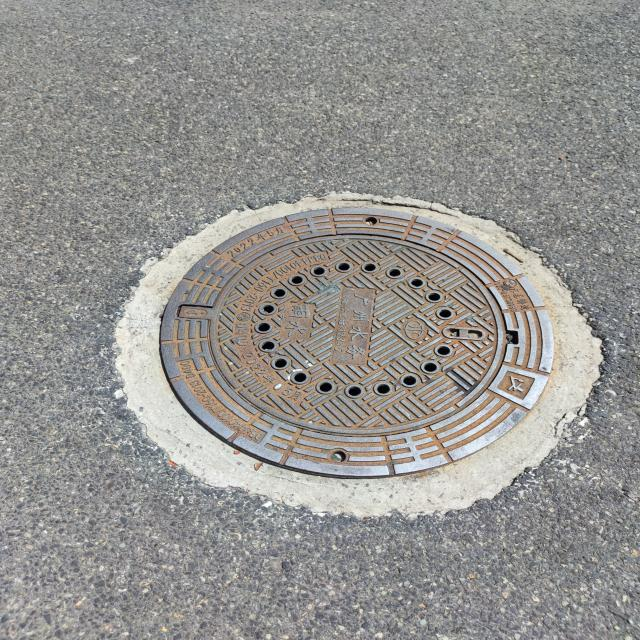Good: (152, 201, 566, 485)
